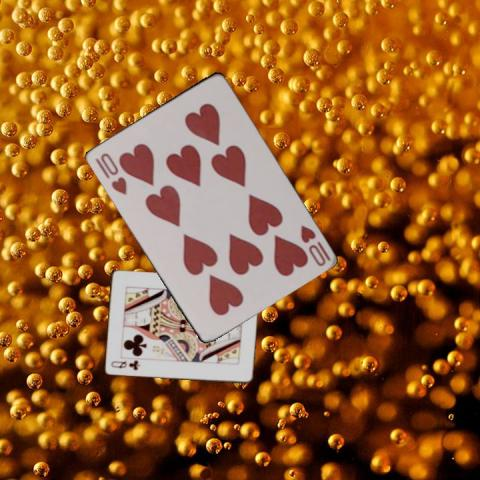10h: (91, 149, 128, 197), (297, 222, 332, 268)
Qc: (108, 358, 141, 371)
